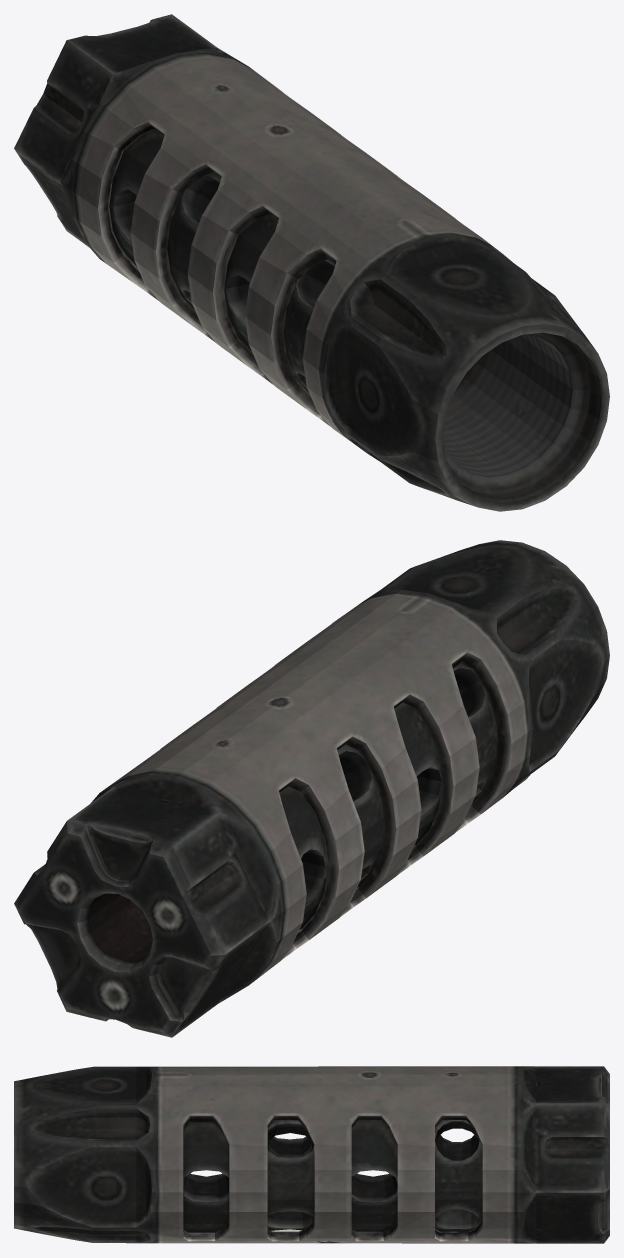
3 views of the same model, one above another, from view 1: azimuth 30°, elevation 25°; view 2: azimuth 150°, elevation 25°; view 3: azimuth 270°, elevation 25° (orthographic). The views are drawn at different scales.
Parts seen in each view (by area): view 1: TW_5bbdb8bdd4351e4502011460_PZ_Import; view 2: TW_5bbdb8bdd4351e4502011460_PZ_Import; view 3: TW_5bbdb8bdd4351e4502011460_PZ_Import.
Boxes of the visible parts, <box> form: TW_5bbdb8bdd4351e4502011460_PZ_Import: <box>14,14,609,511</box>; TW_5bbdb8bdd4351e4502011460_PZ_Import: <box>14,540,609,1037</box>; TW_5bbdb8bdd4351e4502011460_PZ_Import: <box>14,1066,609,1243</box>.
Size of the model in its own units: 0.0133 by 0.0445 by 0.0133.
1 material, 1 textured.
